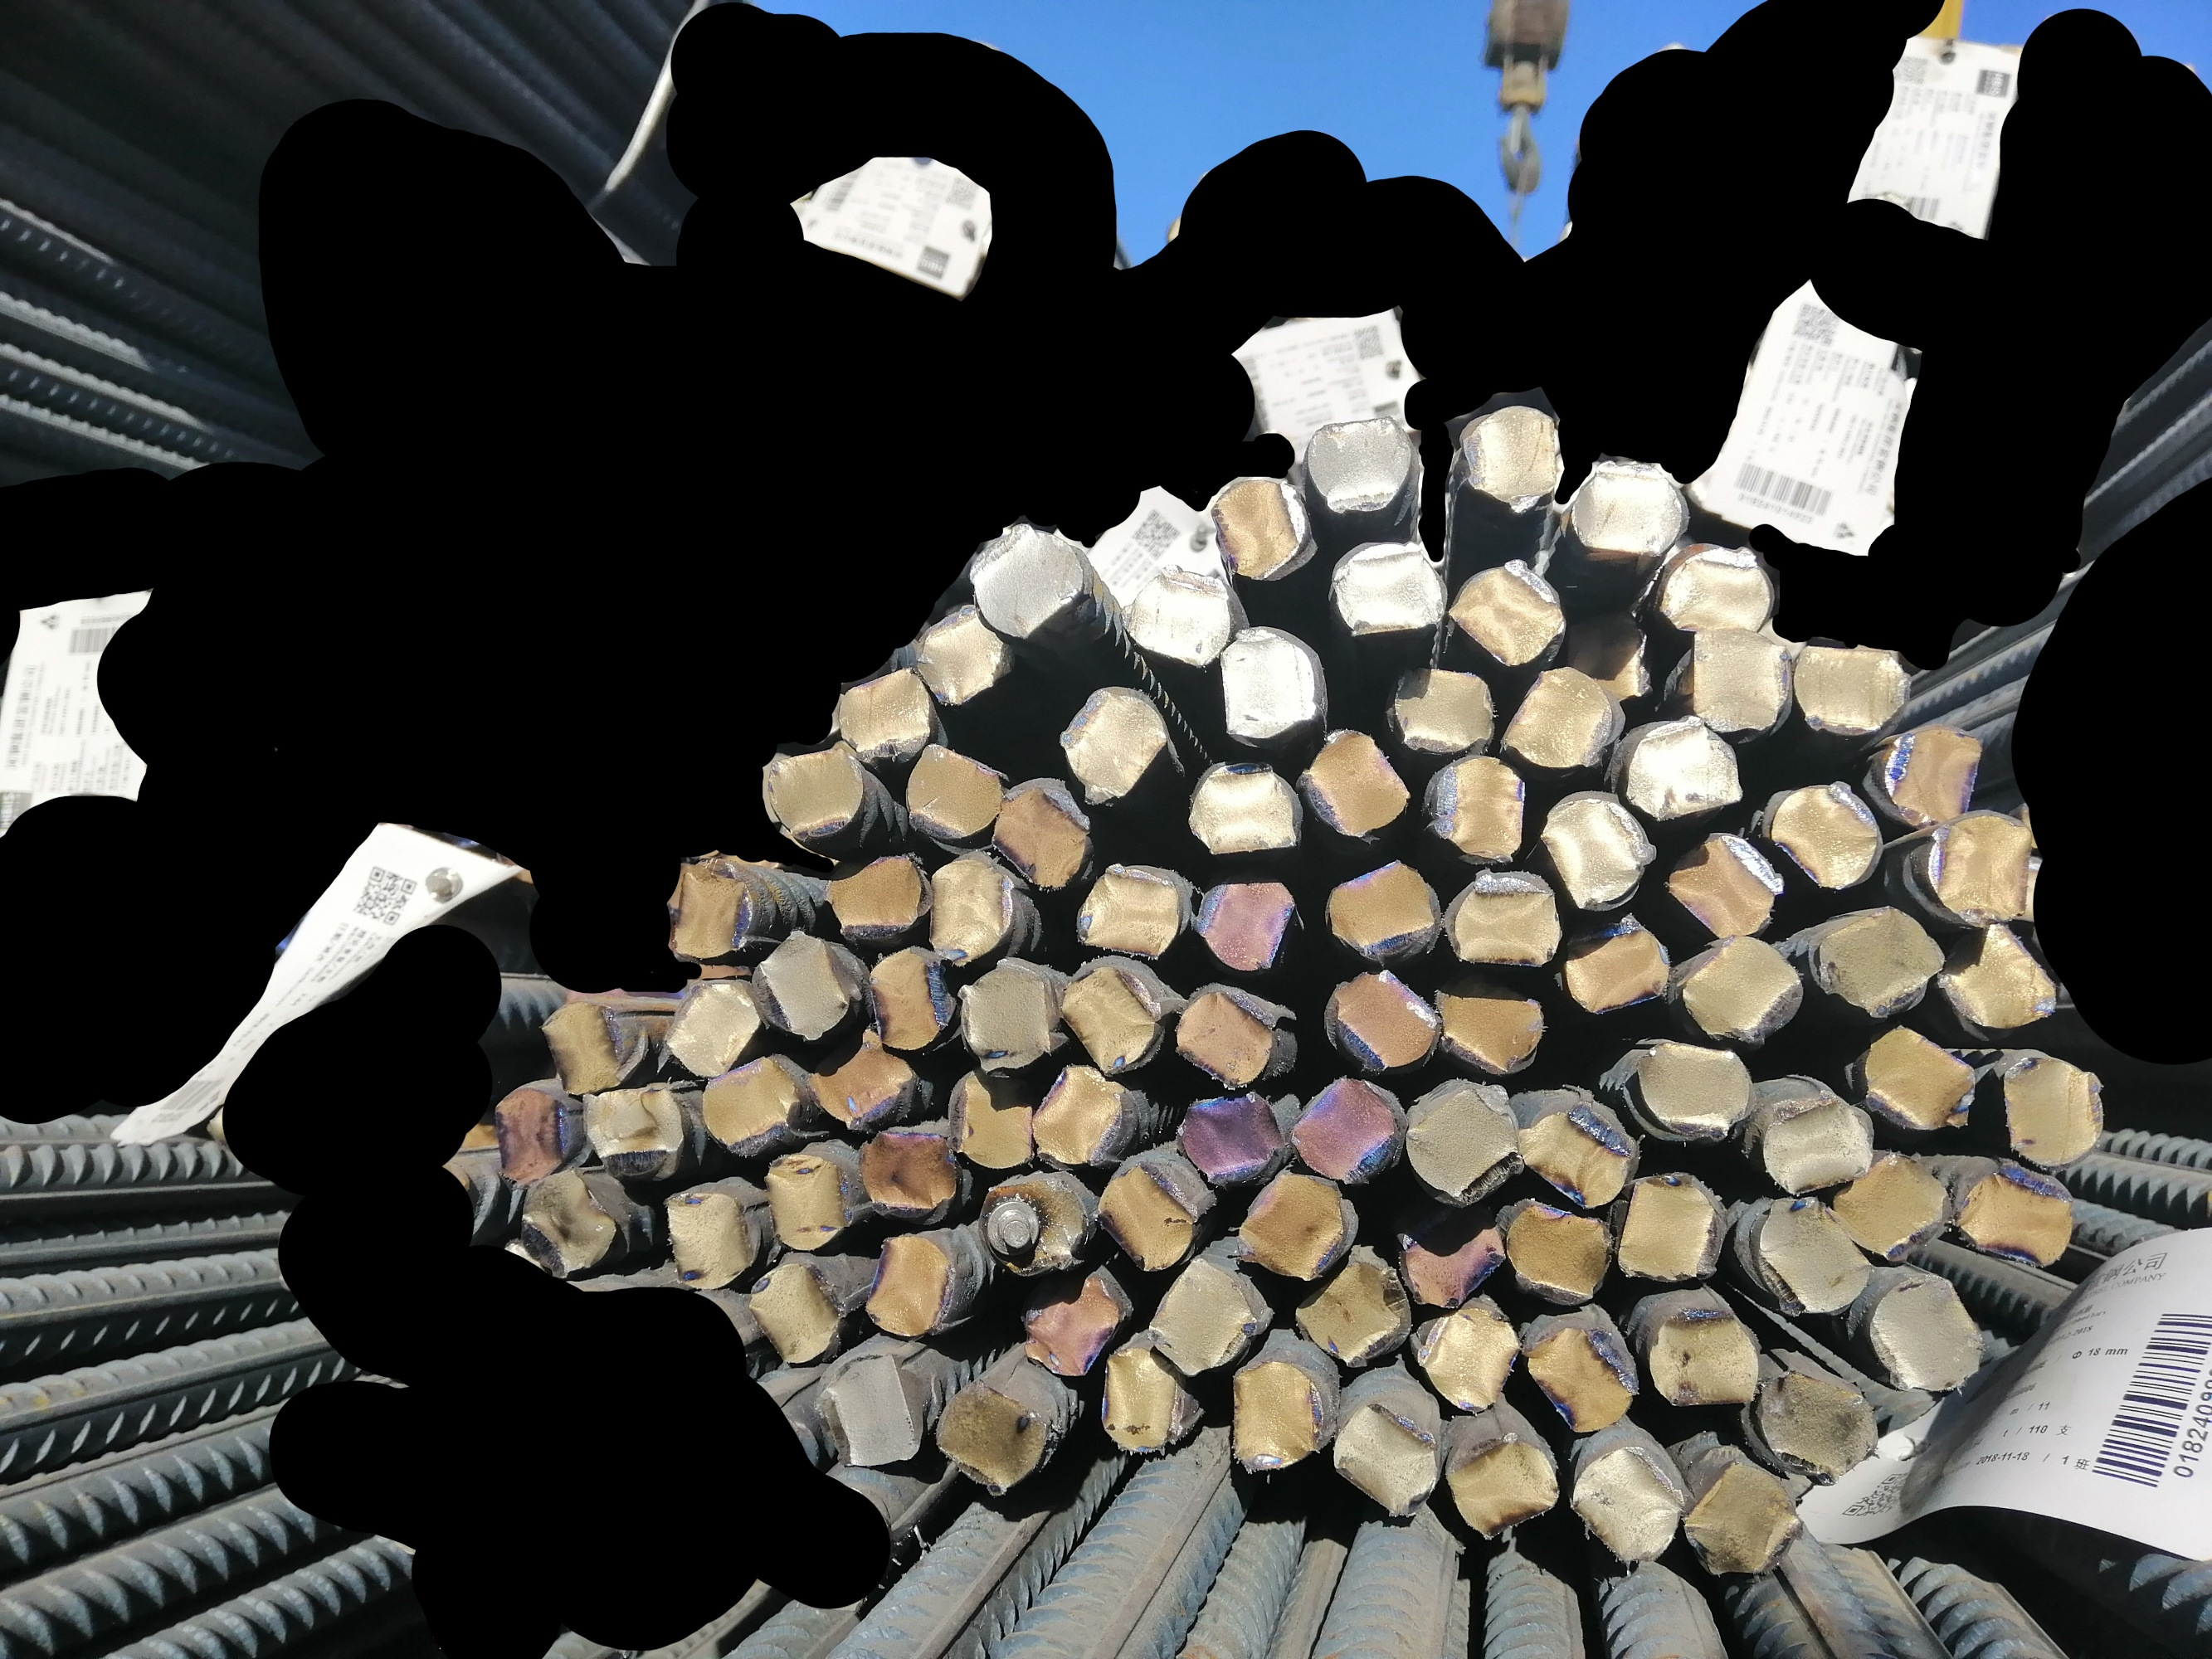rebar: (1679, 1455, 1806, 1589), (1752, 1190, 1876, 1321), (1809, 904, 1945, 1021), (1574, 1438, 1687, 1577), (1286, 1244, 1410, 1370), (1937, 922, 2066, 1040), (1520, 1314, 1645, 1434), (1832, 1143, 1952, 1267), (1401, 1077, 1520, 1202), (1679, 931, 1802, 1049), (1058, 678, 1171, 807), (1539, 788, 1658, 910), (1762, 777, 1886, 894), (1145, 1251, 1260, 1377), (1755, 1370, 1881, 1485), (1872, 1269, 1984, 1398), (1295, 721, 1414, 842), (1443, 1429, 1560, 1551), (1332, 1394, 1443, 1521), (1928, 800, 2036, 931), (1515, 1100, 1635, 1216), (934, 1373, 1049, 1493), (1410, 1293, 1523, 1415), (1998, 1047, 2109, 1171), (814, 1351, 924, 1476), (1952, 1159, 2080, 1267), (1628, 1035, 1757, 1141), (1234, 1164, 1349, 1283), (971, 519, 1084, 640), (1858, 1019, 1980, 1131), (1621, 713, 1747, 821), (800, 1019, 915, 1136), (1332, 533, 1447, 650), (1222, 1352, 1328, 1478), (1185, 748, 1302, 861), (1286, 1072, 1398, 1190), (1128, 556, 1246, 667), (1761, 1087, 1879, 1199), (1213, 622, 1325, 739), (1665, 826, 1781, 938), (1642, 1297, 1759, 1408), (1450, 558, 1569, 667), (1388, 1211, 1511, 1316), (1089, 1331, 1191, 1459), (1616, 1173, 1726, 1288), (1321, 967, 1440, 1073), (1497, 1194, 1616, 1300), (988, 772, 1093, 892), (1321, 859, 1442, 964), (1306, 411, 1417, 523), (1445, 866, 1562, 972), (1175, 1089, 1286, 1199), (1504, 664, 1616, 774), (1686, 620, 1794, 734), (1569, 455, 1686, 559), (957, 951, 1055, 1075), (743, 1256, 851, 1368), (1422, 751, 1529, 864), (751, 931, 854, 1047), (1211, 469, 1314, 586), (1014, 1269, 1124, 1377), (1175, 978, 1279, 1091), (1058, 957, 1157, 1075), (1877, 721, 1987, 828), (579, 1079, 690, 1183), (1464, 404, 1569, 516), (976, 1180, 1093, 1279), (1074, 861, 1192, 958), (1656, 542, 1774, 640), (539, 997, 650, 1100), (1098, 1157, 1199, 1270), (1797, 640, 1912, 739), (659, 1180, 757, 1295), (1564, 917, 1673, 1018), (706, 1051, 805, 1162), (1433, 972, 1544, 1072), (924, 850, 1018, 965), (899, 739, 1004, 842), (919, 601, 1018, 709), (859, 1124, 962, 1227), (525, 1171, 619, 1283), (859, 941, 953, 1053), (1192, 875, 1297, 974), (945, 1063, 1039, 1173), (662, 976, 758, 1082), (824, 845, 931, 941), (858, 1236, 953, 1342), (1388, 662, 1494, 758), (772, 737, 866, 843), (486, 1080, 579, 1188), (837, 664, 936, 763), (763, 1145, 852, 1255), (1562, 606, 1661, 704), (668, 861, 758, 967), (1030, 1058, 1116, 1169)
